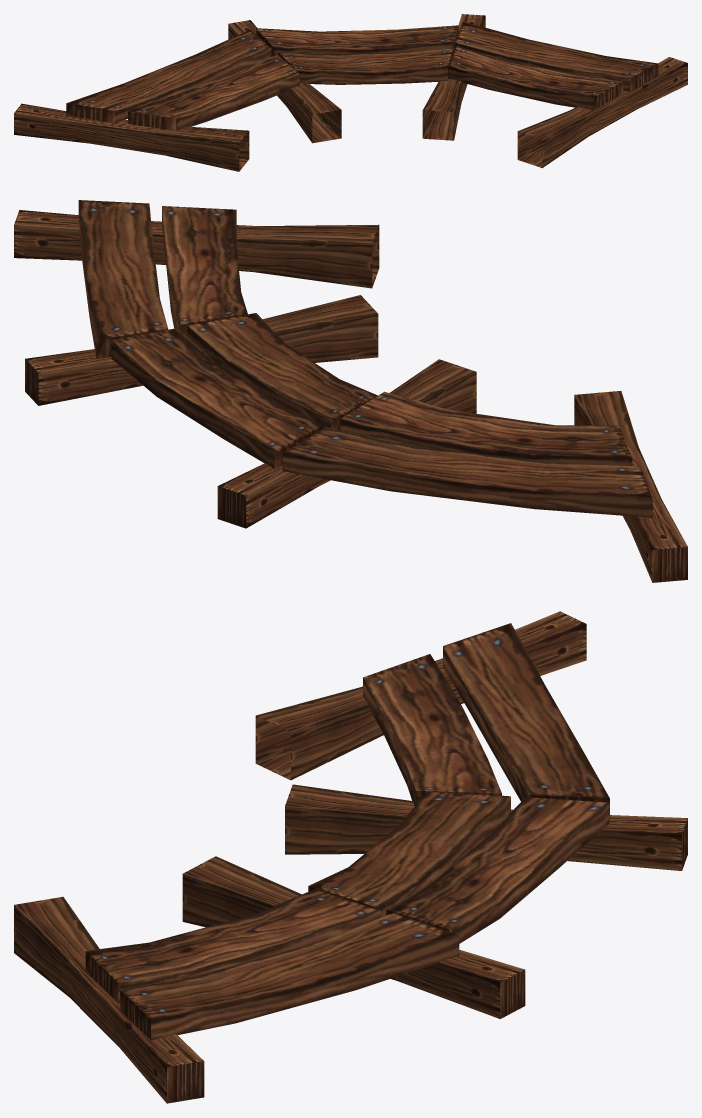
Rendered from OVERHILL_A_01_WOOD_BOARD_45.fbx.
3 renders of one model, top to bottom at view 1: azimuth 30°, elevation 25°; view 2: azimuth 150°, elevation 25°; view 3: azimuth 270°, elevation 25°, orthographic. The views are drawn at different scales.
Parts seen in each view (by area): view 1: OVERHILL_A_01_WOOD_BOARD_45; view 2: OVERHILL_A_01_WOOD_BOARD_45; view 3: OVERHILL_A_01_WOOD_BOARD_45.
Part boxes in pixels (bbox=[...]): OVERHILL_A_01_WOOD_BOARD_45: bbox=[14, 14, 687, 171]; OVERHILL_A_01_WOOD_BOARD_45: bbox=[14, 200, 687, 582]; OVERHILL_A_01_WOOD_BOARD_45: bbox=[14, 611, 687, 1103].
Size of the model in its own units: 45210 by 2839 by 28239.
Materials: 3 (3 with a texture image).
